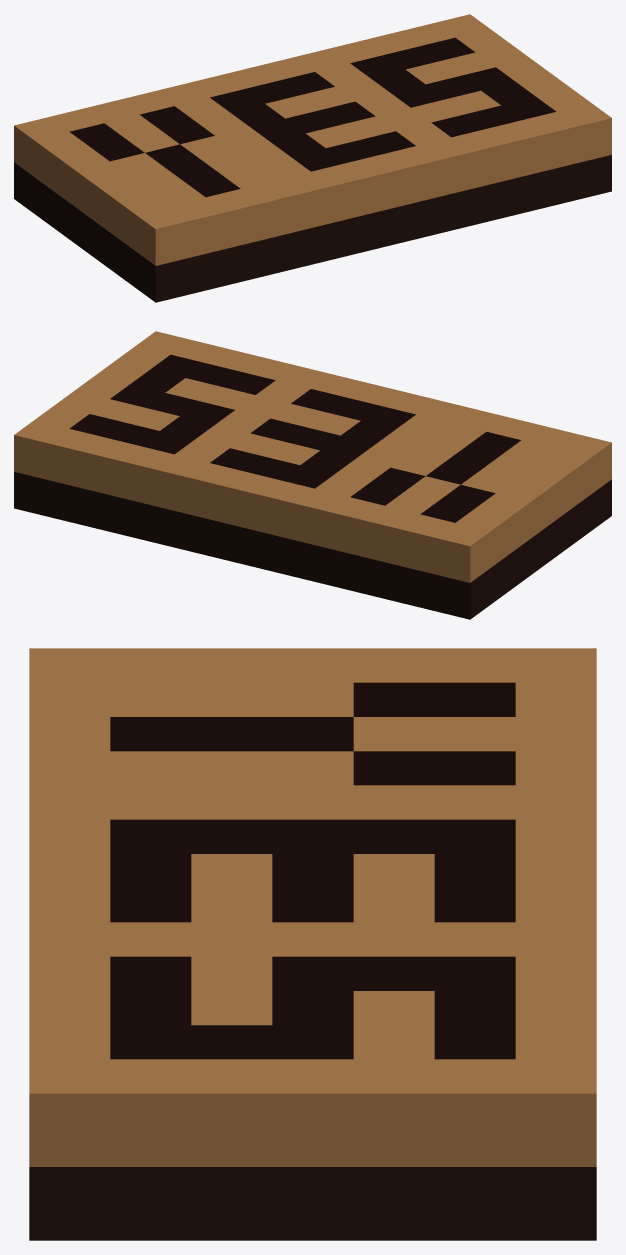
The model's file is Yes_Attack.obj.
3 renders of one model, top to bottom at view 1: azimuth 30°, elevation 25°; view 2: azimuth 150°, elevation 25°; view 3: azimuth 270°, elevation 25°, orthographic. The views are drawn at different scales.
Bounding box in the file's own units: 1.3 × 0.2 × 0.7.
Materials: 1 (1 with a texture image).
